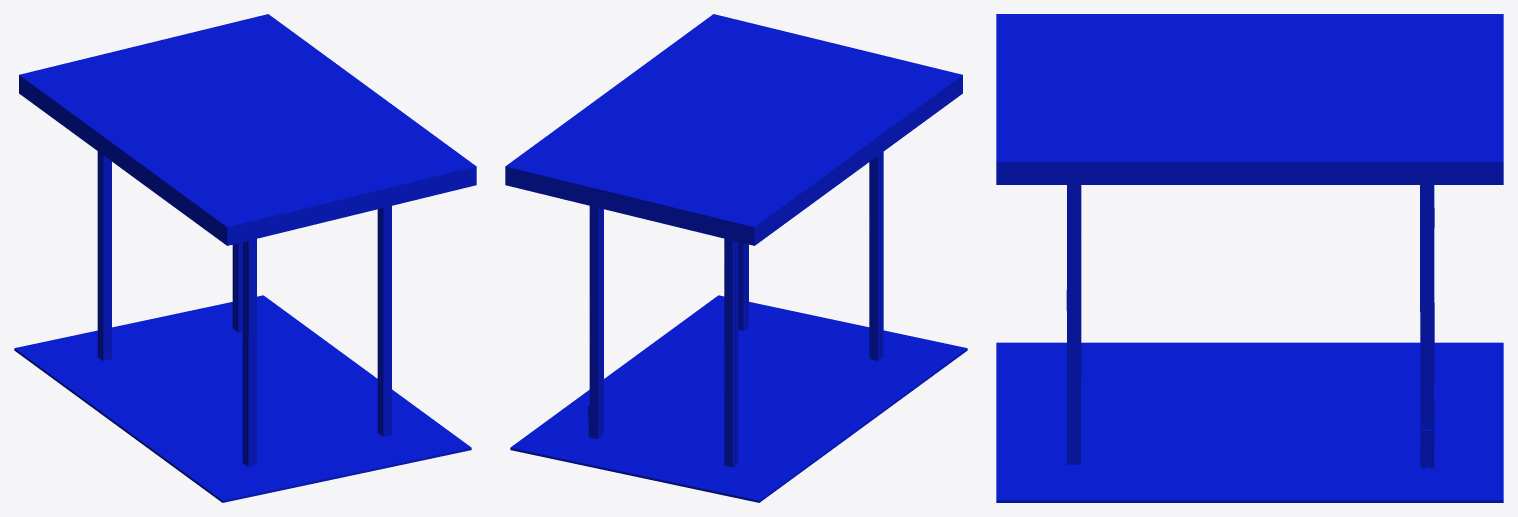
3 renders of one model, left to right at view 1: azimuth 30°, elevation 25°; view 2: azimuth 150°, elevation 25°; view 3: azimuth 270°, elevation 25°, orthographic. The views are drawn at different scales.
Visible parts, largest first — view 1: 立方体.004, 立方体.005, 立方体.001, 立方体.003, 立方体.002; view 2: 立方体.004, 立方体.005, 立方体.002, 立方体.003, 立方体.001; view 3: 立方体.004, 立方体.005, 立方体.001, 立方体.002.
Boxes of the visible parts, x1=… form: 立方体.004: x1=19, y1=14, x2=476, y2=361; 立方体.005: x1=14, y1=295, x2=471, y2=502; 立方体.001: x1=377, y1=206, x2=391, y2=436; 立方体.003: x1=242, y1=239, x2=256, y2=466; 立方体.002: x1=232, y1=242, x2=242, y2=331; 立方体.004: x1=505, y1=14, x2=962, y2=467; 立方体.005: x1=510, y1=295, x2=967, y2=502; 立方体.002: x1=589, y1=206, x2=603, y2=437; 立方体.003: x1=869, y1=152, x2=883, y2=361; 立方体.001: x1=738, y1=242, x2=748, y2=330; 立方体.004: x1=996, y1=14, x2=1503, y2=381; 立方体.005: x1=996, y1=342, x2=1503, y2=502; 立方体.001: x1=1066, y1=185, x2=1080, y2=464; 立方体.002: x1=1420, y1=185, x2=1434, y2=465.
Bounding box in the file's own units: 2841 × 3018 × 4035.
